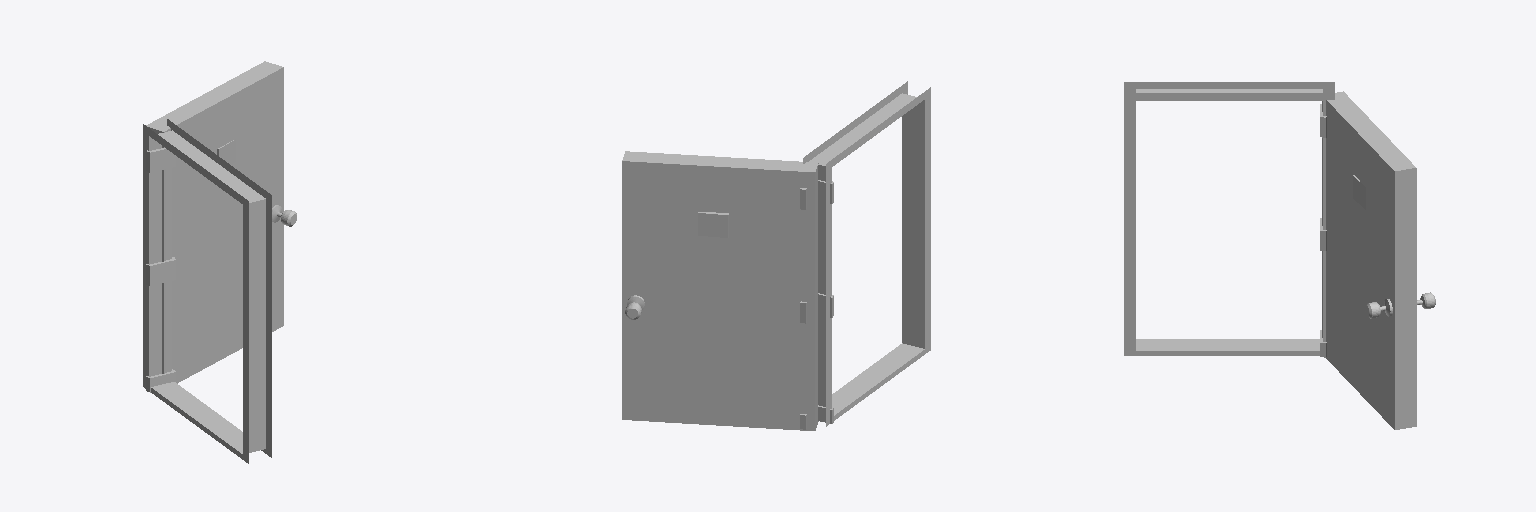
The model's file is Door_5_Open27.obj.
3 renders of one model, left to right at view 1: azimuth 30°, elevation 25°; view 2: azimuth 150°, elevation 25°; view 3: azimuth 270°, elevation 25°, orthographic.
Parts seen in each view (by area): view 1: Door.004, Frame_Door.004; view 2: Door.004, Frame_Door.004; view 3: Door.004, Frame_Door.004.
Boxes of the visible parts, <box> form: Door.004: <box>146,61,296,383</box>; Frame_Door.004: <box>143,119,271,463</box>; Door.004: <box>622,151,818,430</box>; Frame_Door.004: <box>803,81,930,426</box>; Door.004: <box>1322,91,1435,429</box>; Frame_Door.004: <box>1124,82,1334,357</box>.
Bounding box in the file's own units: 0.8063 × 1.17 × 1.25.